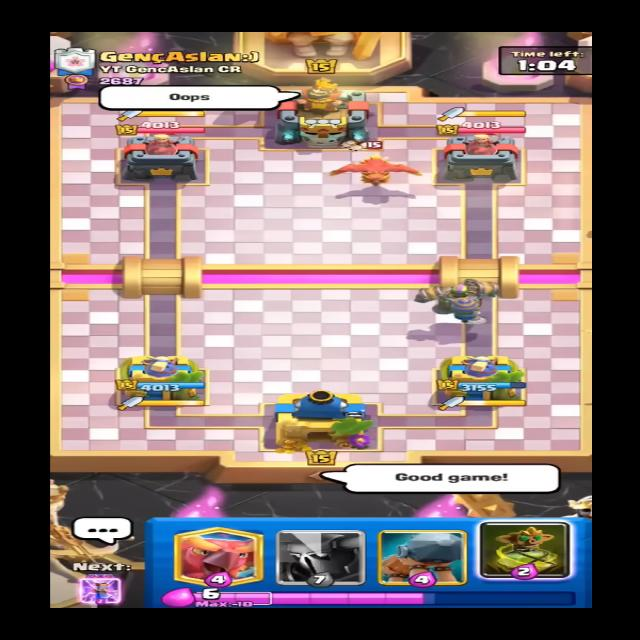phoenix: (319, 137, 442, 186)
